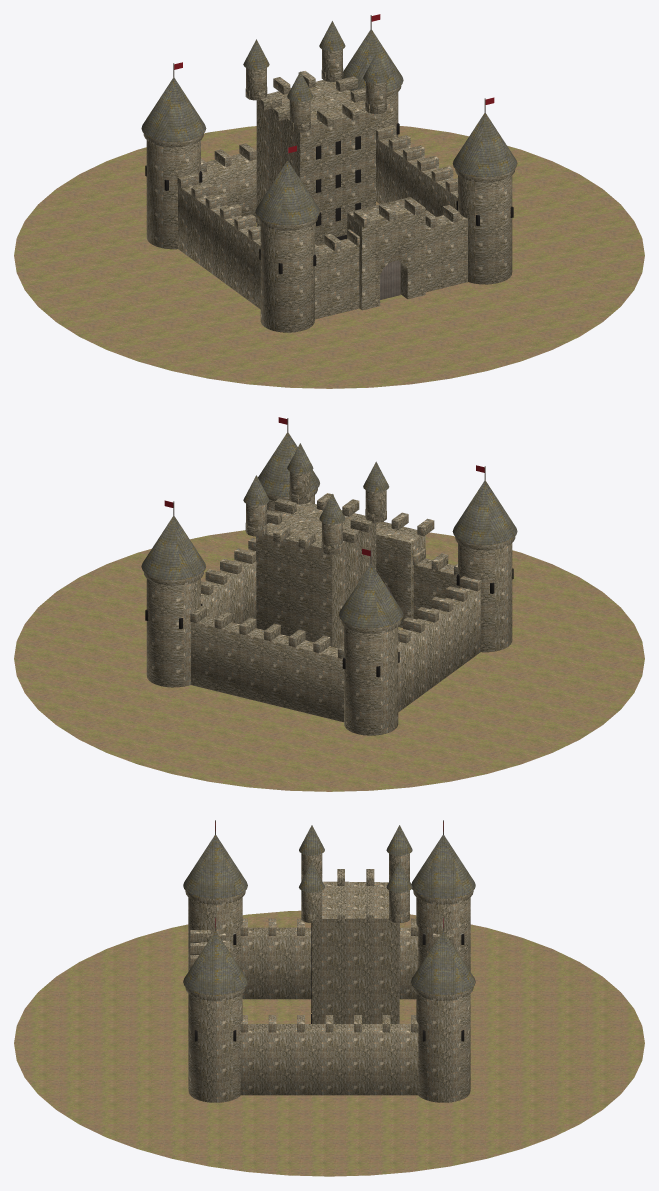
Rendered from castle.glb.
The picture shows the model from 3 angles, top to bottom: view 1: azimuth 30°, elevation 25°; view 2: azimuth 150°, elevation 25°; view 3: azimuth 270°, elevation 25°; orthographic projection.
Parts seen in each view (by area): view 1: castle; view 2: castle; view 3: castle.
Part boxes in pixels (x1,y1,x2,y2): castle: [14, 14, 644, 388]; castle: [14, 417, 644, 791]; castle: [14, 820, 644, 1176].
Size of the model in its own units: 72 by 25.2 by 72.
6 materials, 4 textured.
